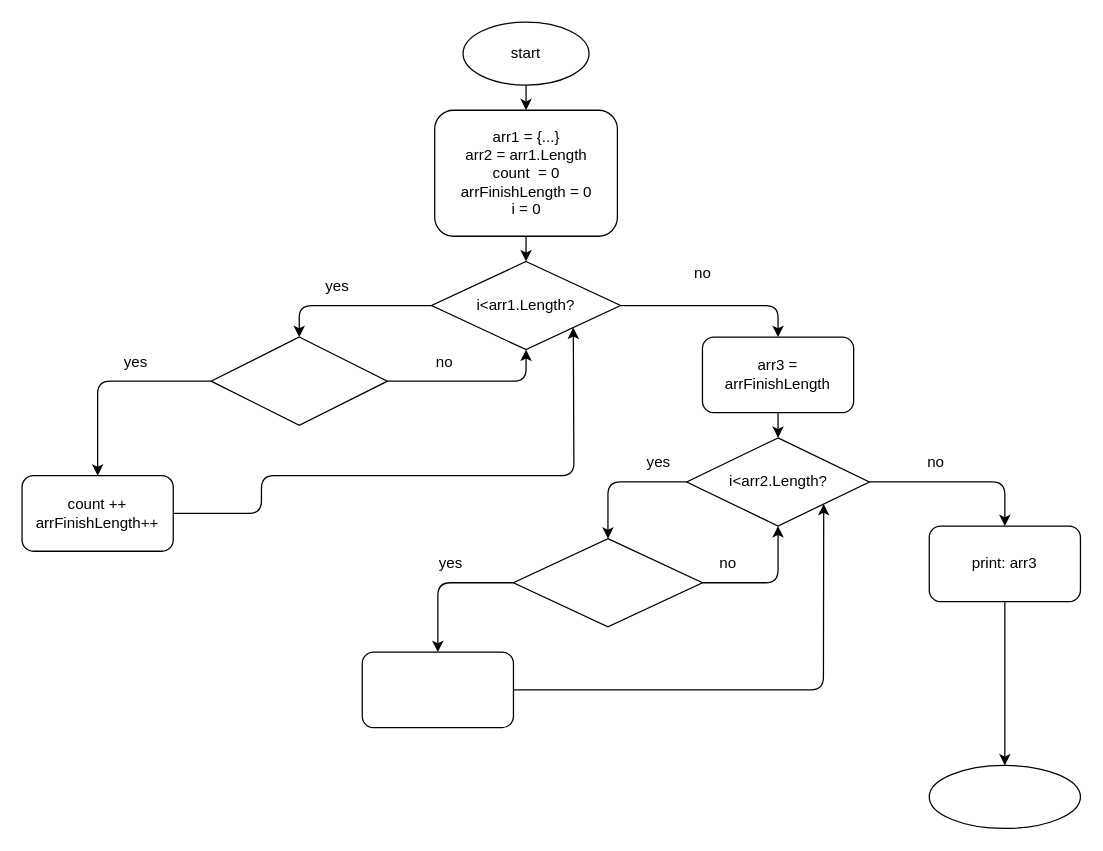
The diagram is 1103 pixels wide and 851 high, and some of its shapes have lost their labels. The centre of each missing label's shape, as x and y in pixels:
arr1[i] <=3?: point 298,380
arr2 [i] != null?: point 607,582
arr3 [i] = arr2 [i]: point 437,689
end: point 1004,796
